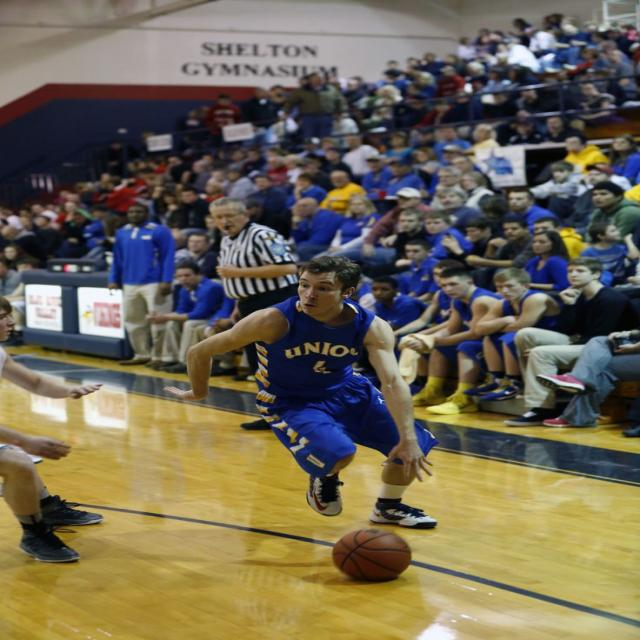body: (159, 254, 440, 530), (319, 12, 640, 151), (0, 138, 320, 272), (0, 292, 107, 564), (501, 254, 639, 428), (206, 196, 304, 432), (531, 261, 639, 429), (410, 266, 505, 416), (463, 266, 562, 402), (105, 202, 177, 368), (390, 258, 470, 399), (144, 259, 226, 374), (358, 186, 438, 277), (462, 216, 536, 294), (184, 262, 236, 366), (390, 210, 475, 273), (554, 161, 616, 242), (276, 72, 352, 138), (365, 276, 445, 338), (310, 195, 382, 261), (370, 209, 430, 280), (290, 197, 354, 263), (578, 220, 640, 287), (581, 180, 640, 245), (527, 160, 590, 220), (438, 216, 505, 272), (517, 230, 575, 292), (415, 186, 484, 237), (497, 185, 567, 235), (396, 238, 442, 302), (427, 144, 483, 196), (366, 156, 426, 201), (202, 92, 242, 159), (532, 216, 591, 261), (594, 133, 640, 187), (317, 168, 369, 214), (562, 134, 612, 174), (428, 165, 470, 211), (457, 169, 498, 212), (285, 173, 329, 211), (245, 84, 283, 128), (408, 148, 445, 191), (359, 154, 397, 194), (317, 147, 354, 178), (615, 260, 640, 304), (231, 342, 259, 381), (0, 442, 43, 463), (178, 104, 205, 133), (0, 259, 21, 296), (478, 195, 510, 217), (14, 256, 50, 272), (450, 156, 476, 174), (621, 182, 640, 205), (621, 425, 640, 439), (298, 74, 310, 86)
